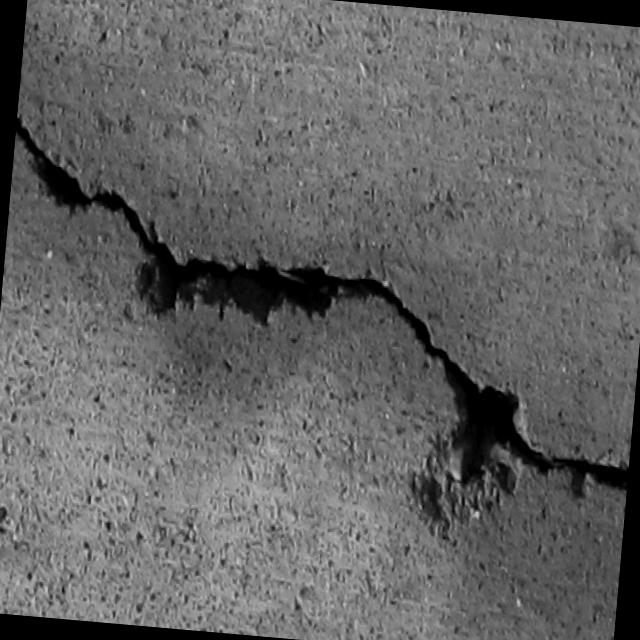crack: (0, 116, 492, 383), (518, 432, 630, 502)
spall: (403, 379, 527, 554)
